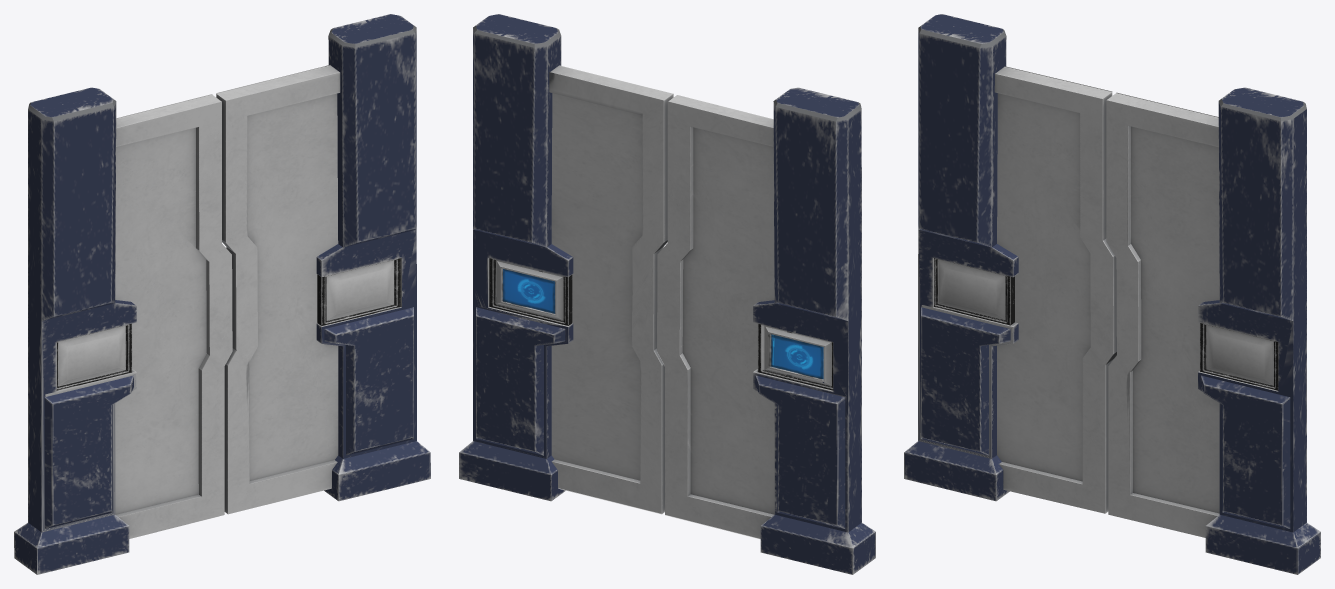
Rendered from Porte_LP.fbx.
3 renders of one model, left to right at view 1: azimuth 30°, elevation 25°; view 2: azimuth 150°, elevation 25°; view 3: azimuth 330°, elevation 25°, orthographic.
Parts seen in each view (by area): view 1: Cube_005, Cube_007, Cube_006, Cube_008; view 2: Cube_005, Cube_007, Cube_006, Cube_008; view 3: Cube_005, Cube_006, Cube_007, Cube_008.
Boxes of the visible parts, <box> form: Cube_005: <box>14,14,430,574</box>; Cube_007: <box>216,65,340,514</box>; Cube_006: <box>115,94,232,538</box>; Cube_008: <box>56,258,400,390</box>; Cube_005: <box>459,14,875,574</box>; Cube_007: <box>538,65,673,514</box>; Cube_006: <box>657,95,792,539</box>; Cube_008: <box>489,258,833,390</box>; Cube_005: <box>904,14,1320,574</box>; Cube_006: <box>994,66,1116,513</box>; Cube_007: <box>1106,92,1219,537</box>; Cube_008: <box>934,258,1278,390</box>.
Size of the model in its own units: 317 by 348 by 34.36.
